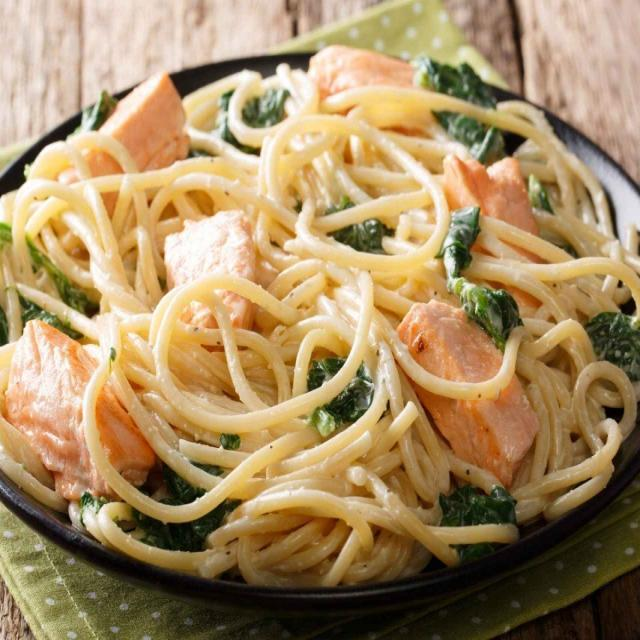pasta: (6, 17, 630, 598)
